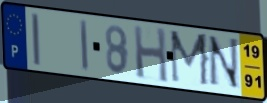8: (104, 24, 129, 76)
H: (132, 24, 170, 85)
I: (29, 12, 42, 68), (79, 18, 90, 74)
M: (168, 29, 211, 90)
N: (207, 34, 242, 92)
